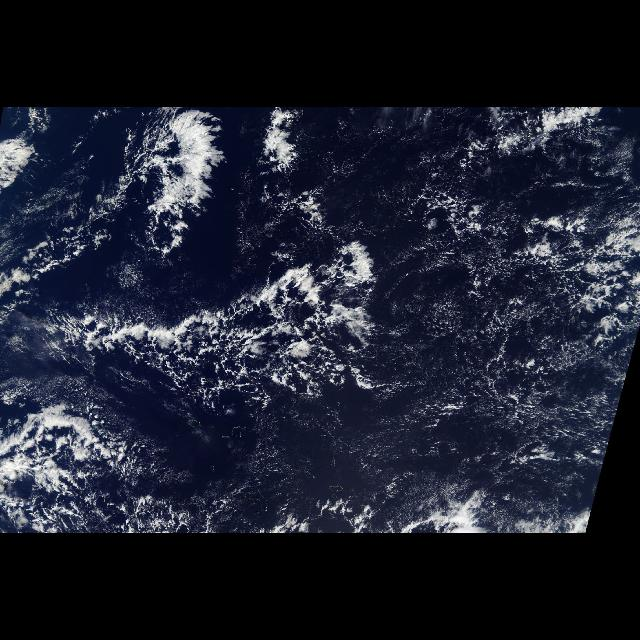Fish: (1, 107, 406, 421)
Gravel: (407, 156, 639, 430)
Sugar: (426, 290, 572, 432)
